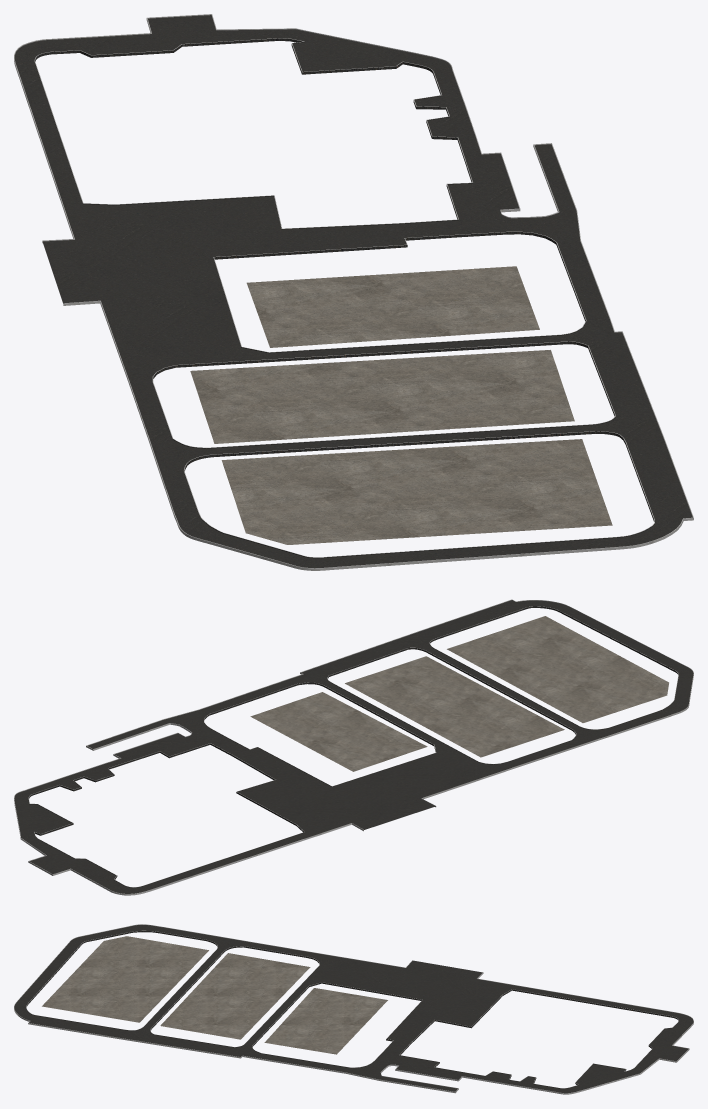
File: road_p06_04.fbx
The picture shows the model from 3 angles, top to bottom: view 1: azimuth 30°, elevation 25°; view 2: azimuth 150°, elevation 25°; view 3: azimuth 270°, elevation 25°; orthographic projection. The views are drawn at different scales.
Visible parts, largest first — view 1: road_p06_04; view 2: road_p06_04; view 3: road_p06_04.
Boxes of the visible parts, box(x1,y1,x2,y2) form: road_p06_04: box(14, 14, 693, 570); road_p06_04: box(14, 599, 693, 895); road_p06_04: box(14, 924, 693, 1094).
Size of the model in its own units: 20015 by 70 by 34016.
3 materials, 3 textured.
